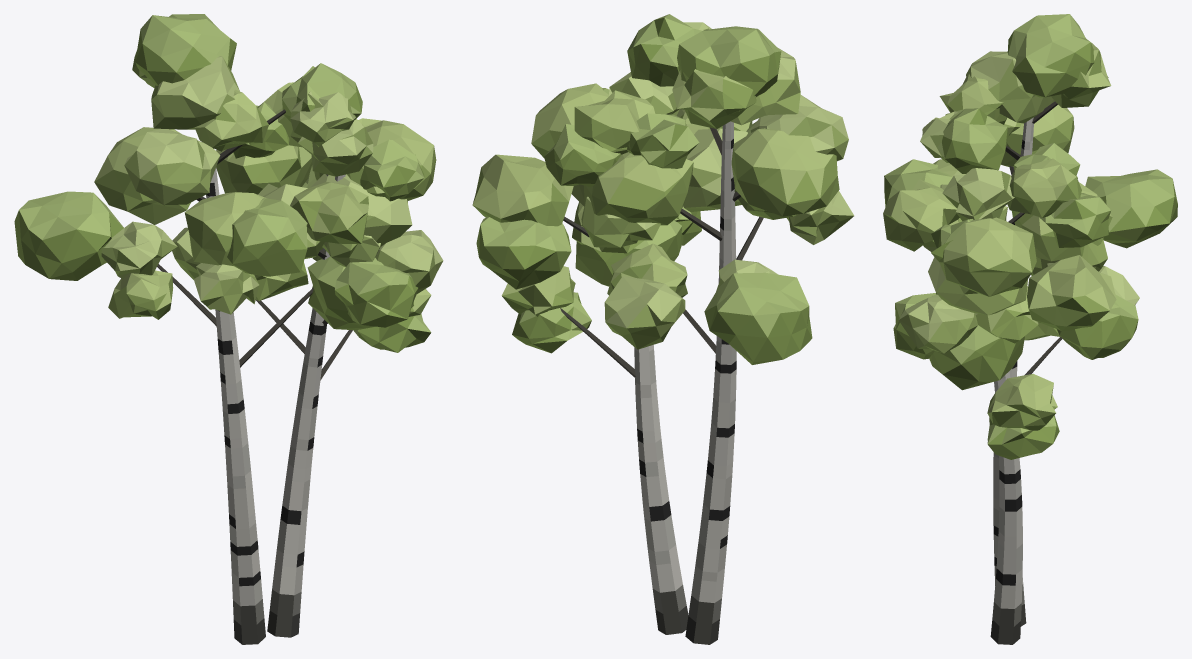
The model's file is river_birch_pair.glb.
3 renders of one model, left to right at view 1: azimuth 30°, elevation 25°; view 2: azimuth 150°, elevation 25°; view 3: azimuth 270°, elevation 25°, orthographic. The views are drawn at different scales.
Visible parts, largest first — view 1: river_birch_pair; view 2: river_birch_pair; view 3: river_birch_pair.
Part boxes in pixels (<box>): river_birch_pair: <box>14,14,443,644</box>; river_birch_pair: <box>472,14,854,644</box>; river_birch_pair: <box>883,14,1177,644</box>.
Size of the model in its own units: 6.22 by 10.79 by 4.96.
